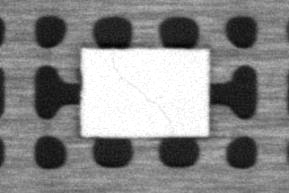DIE_CRACK: (110, 57, 172, 123)
